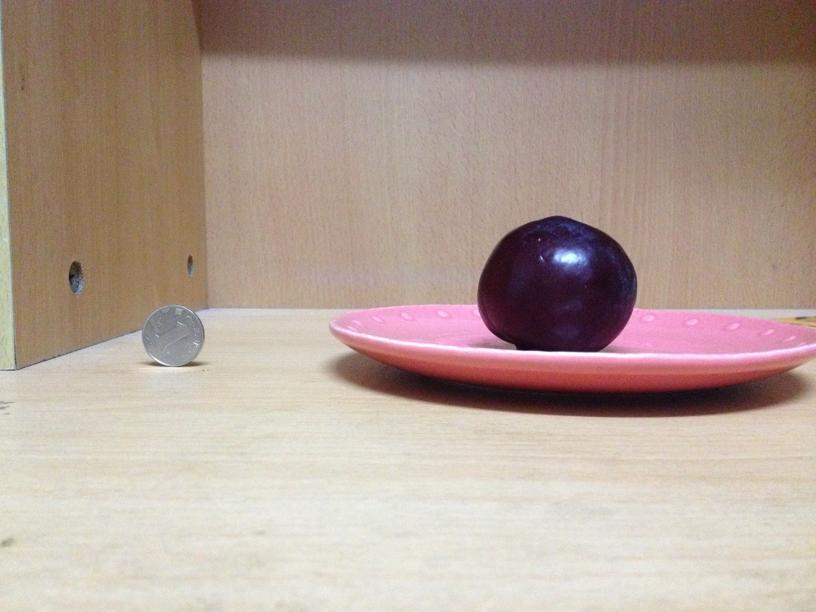coin: (143, 306, 206, 365)
plum: (470, 207, 639, 349)
